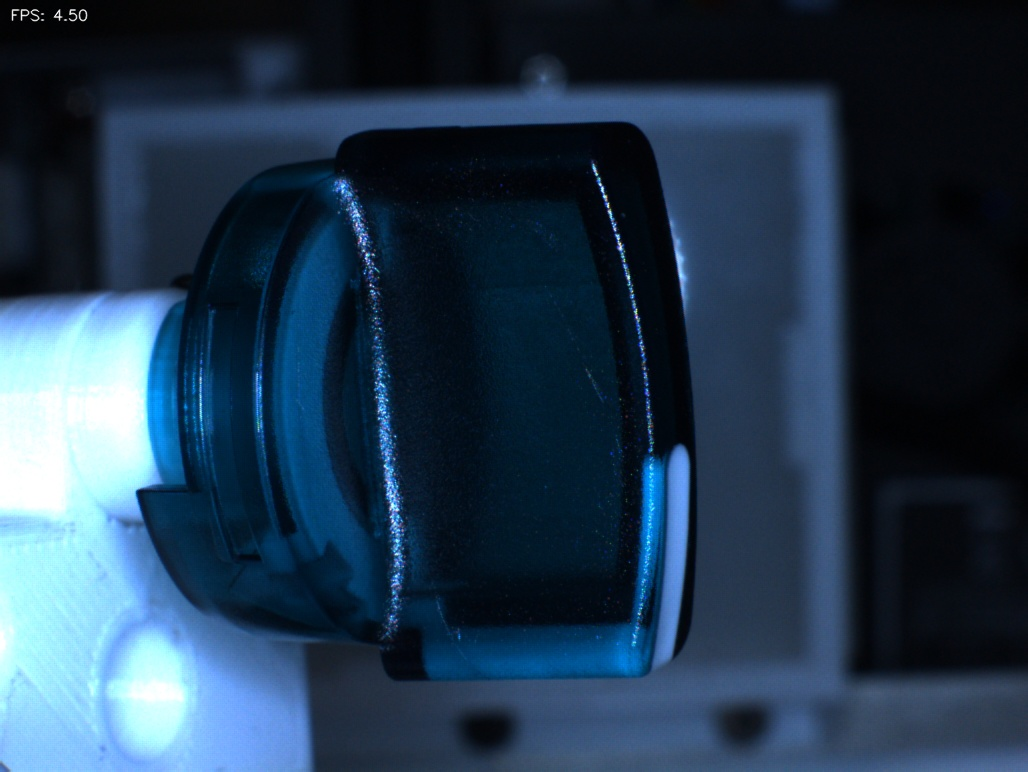Givrage: (487, 193, 625, 467), (411, 527, 493, 673)
